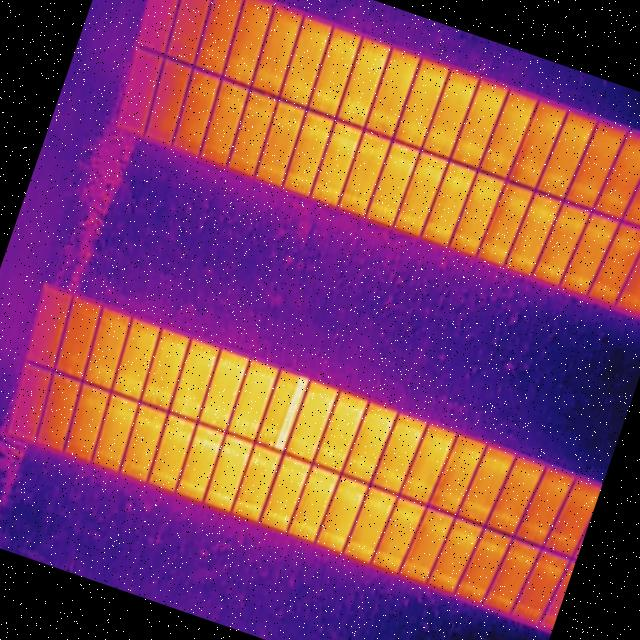Hotspot: (272, 374, 310, 452), (222, 364, 246, 424), (318, 395, 336, 429), (260, 376, 276, 407), (192, 435, 220, 452), (296, 468, 308, 496), (228, 436, 251, 448), (310, 437, 320, 458), (246, 421, 259, 433), (241, 450, 249, 466), (222, 446, 234, 455), (328, 482, 335, 496), (268, 440, 272, 448)
